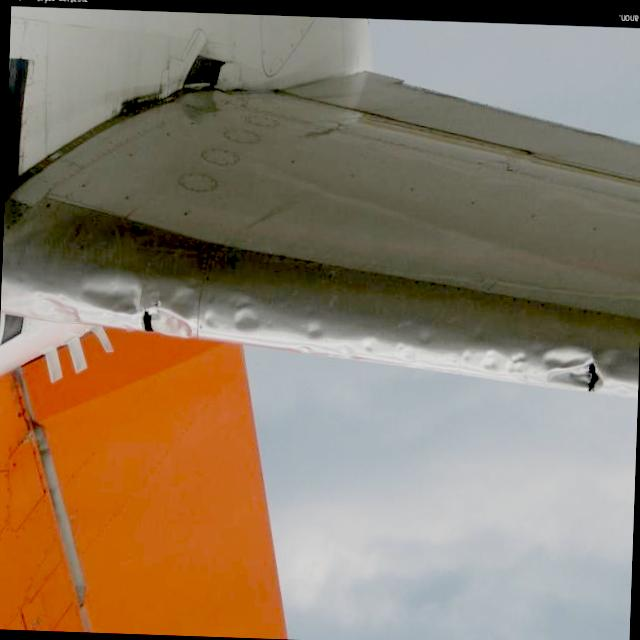dent: (20, 260, 608, 394)
